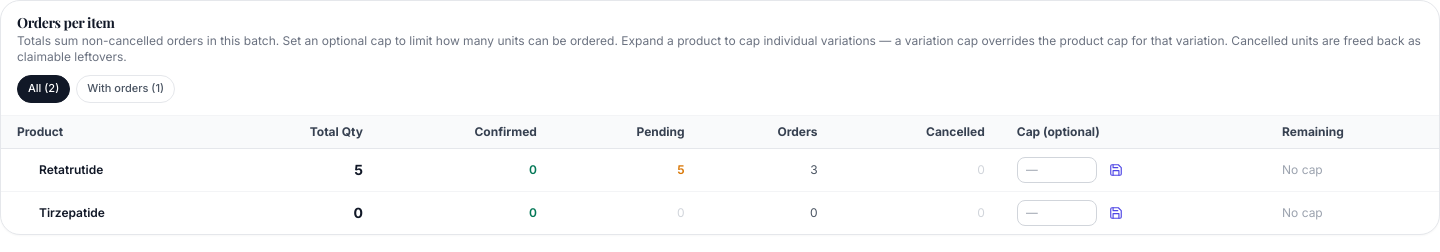
Test case: CapsProgressTable order filter › hides products with zero orders when the "with orders" filter is active
Click the button "With orders (1)" at (126, 89), box [76,75,175,103]
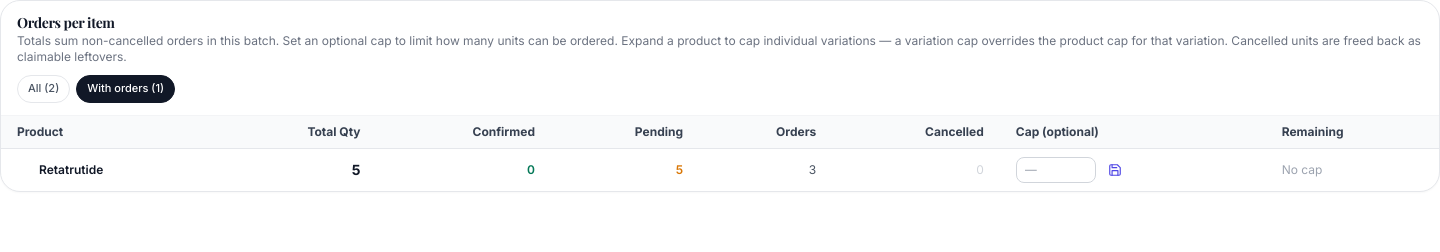
Expected: the text "Retatrutide" is shown, [39,162,103,177]
Result: the text "Tirzepatide" is gone
